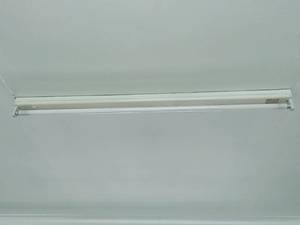Light_bulb: (11, 102, 294, 119)
